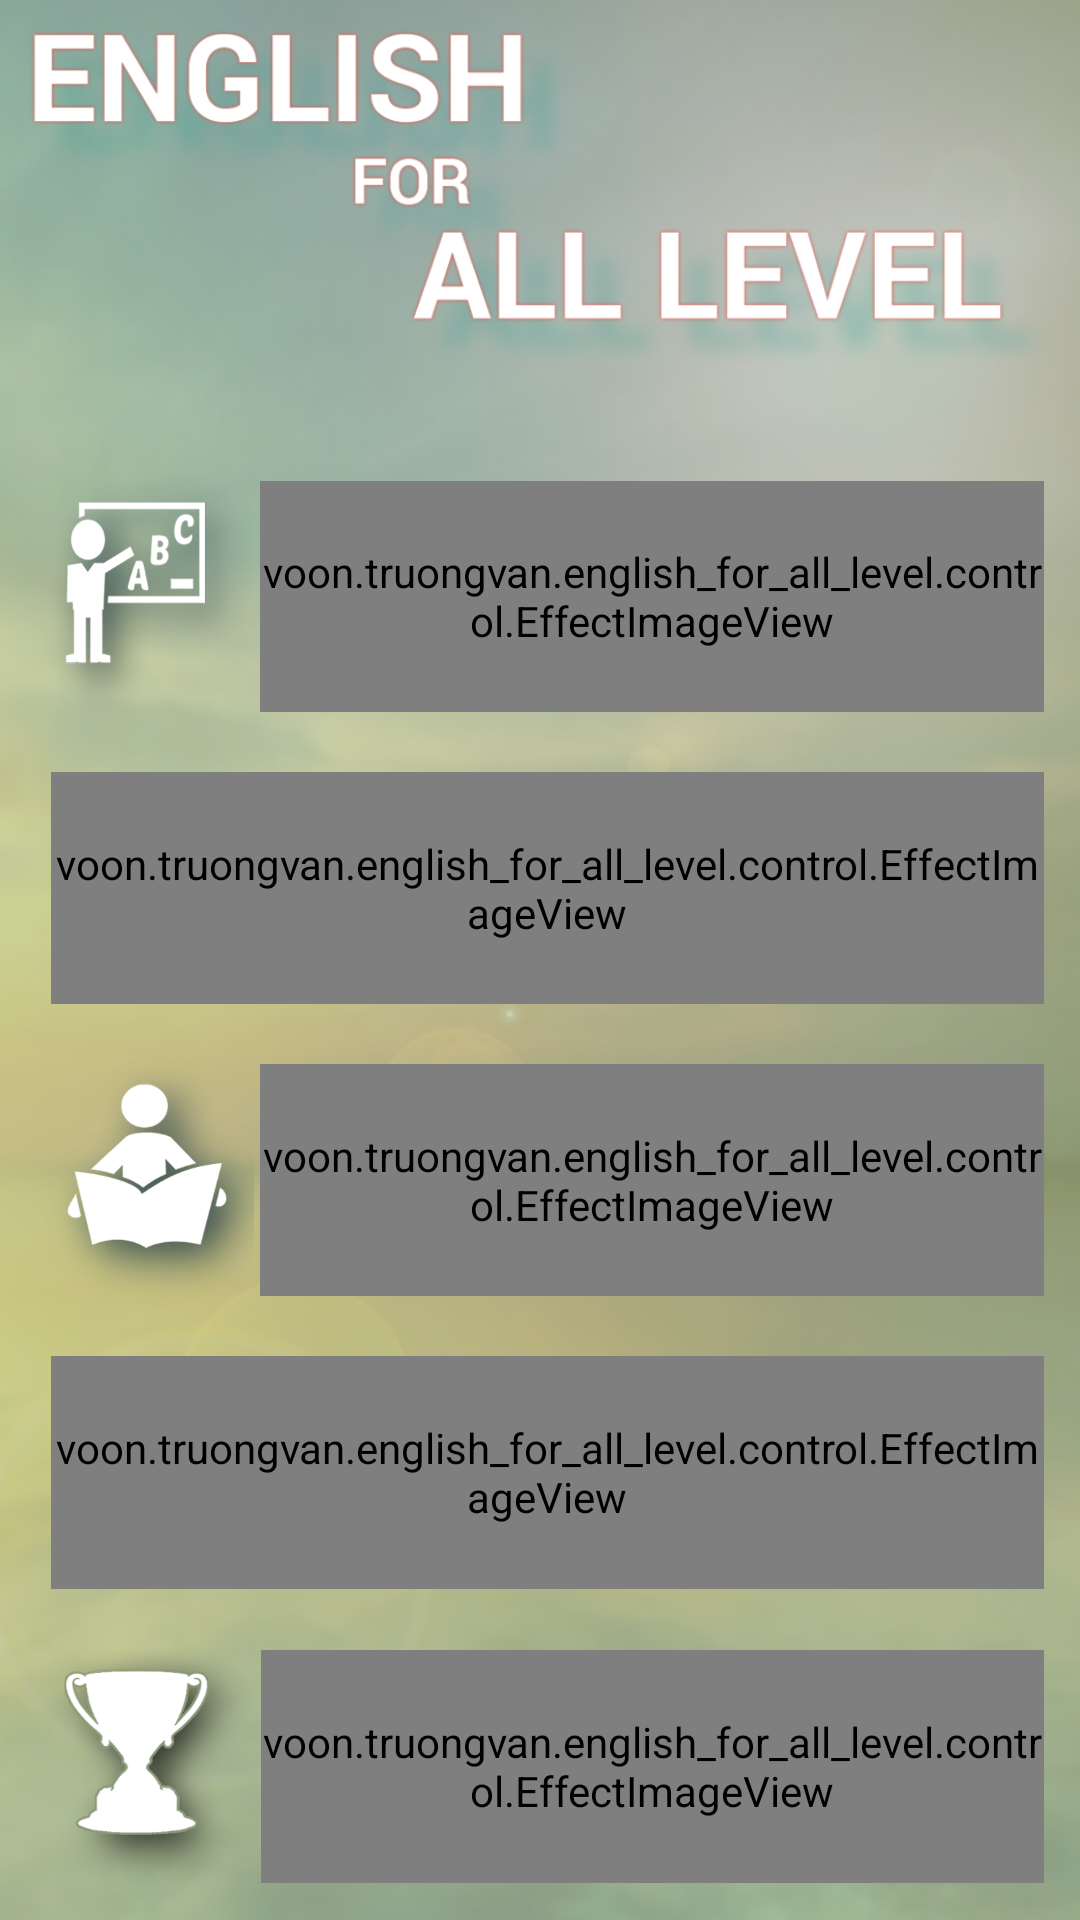

Screen size 1080w x 1920h. Icon name, then its center in pixels as point (x, y):
grammar: point (154, 583)
ranking: point (146, 1768)
study offline: point (161, 1180)
